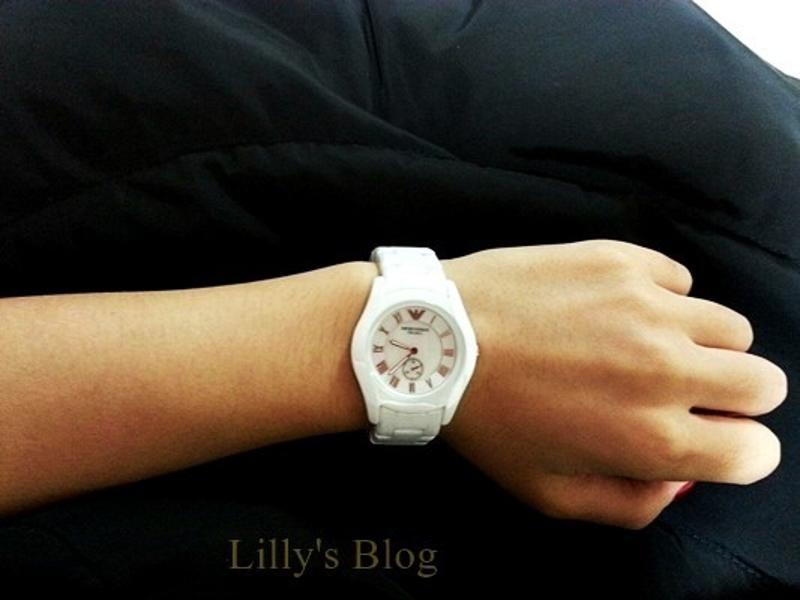watch: (348, 243, 483, 447)
